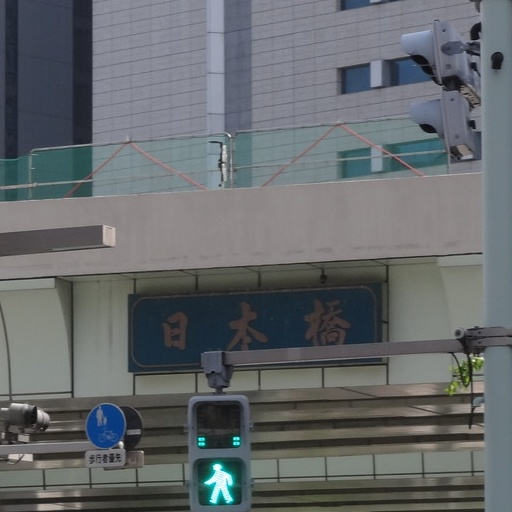Pedestrian_Signal_Blue: (181, 387, 260, 509)
